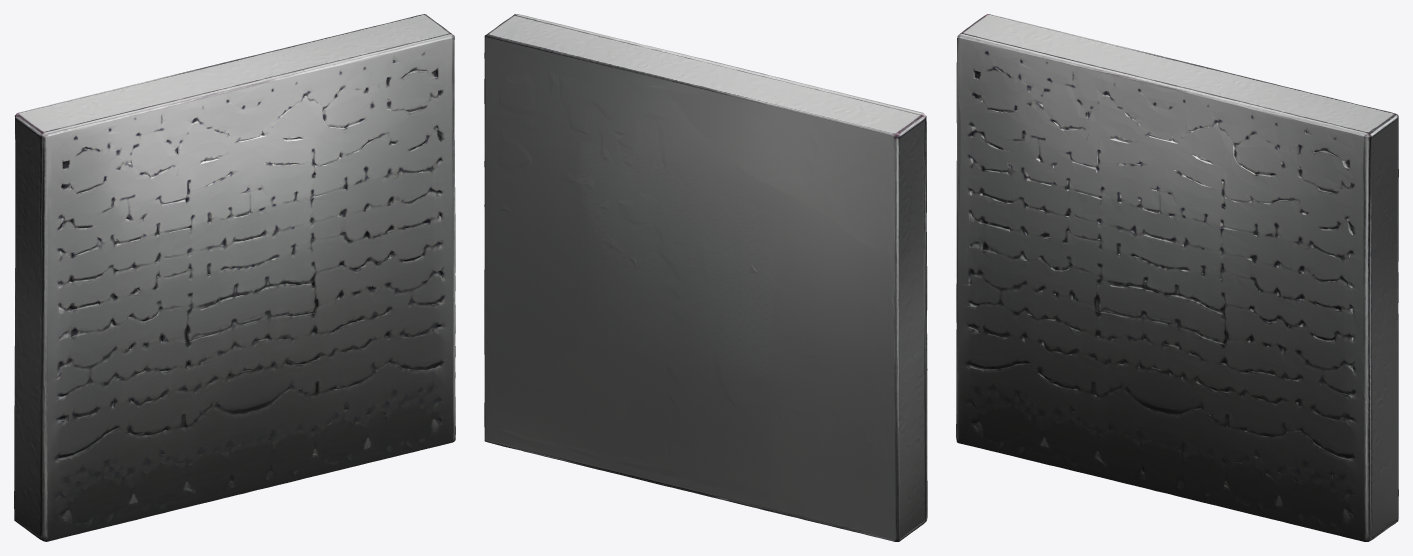
The picture shows the model from 3 angles, left to right: view 1: azimuth 30°, elevation 25°; view 2: azimuth 150°, elevation 25°; view 3: azimuth 330°, elevation 25°; orthographic projection.
Visible parts, largest first — view 1: world; view 2: world; view 3: world.
Boxes of the visible parts, box(x1,y1,x2,y2) form: world: box(14, 14, 455, 541); world: box(484, 14, 927, 541); world: box(956, 14, 1398, 541).
Bounding box in the file's own units: 1 × 0.9414 × 0.1343.
1 material, 1 textured.
